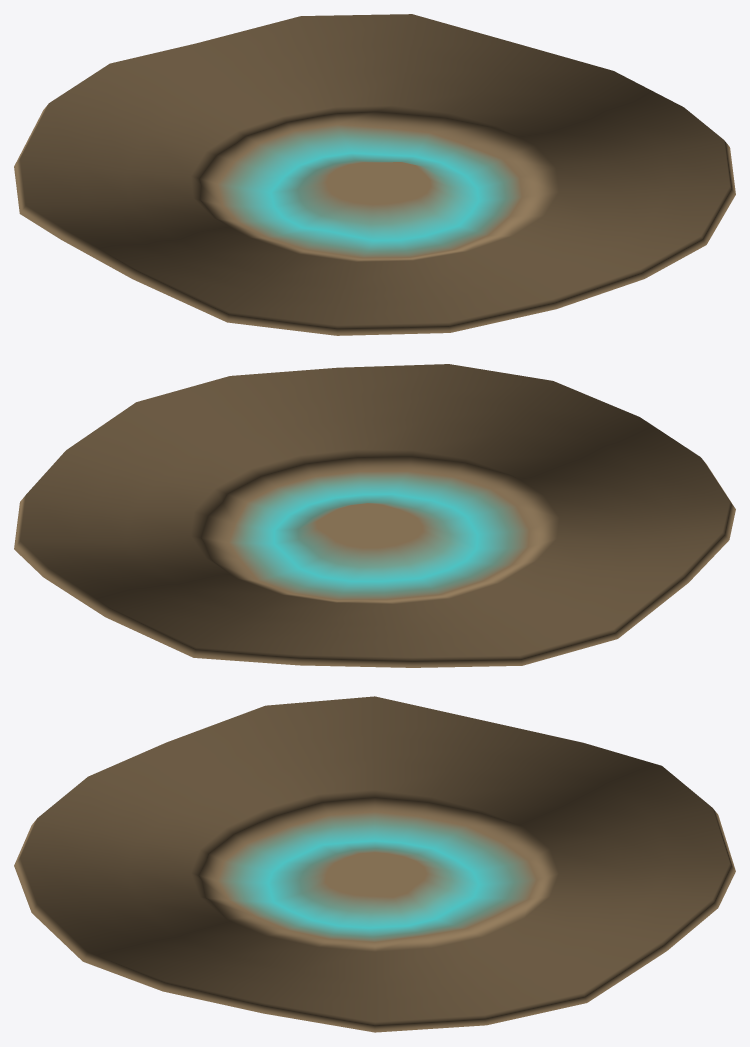
The model's file is Sand_Environment3.fbx.
The picture shows the model from 3 angles, top to bottom: view 1: azimuth 30°, elevation 25°; view 2: azimuth 150°, elevation 25°; view 3: azimuth 270°, elevation 25°; orthographic projection.
Parts seen in each view (by area): view 1: platform2; view 2: platform2; view 3: platform2.
Boxes of the visible parts, x1,y1,x2,y2 form: platform2: (14, 14, 735, 335); platform2: (14, 364, 735, 667); platform2: (14, 696, 735, 1032).
Size of the model in its own units: 813 by 54.5 by 814.
